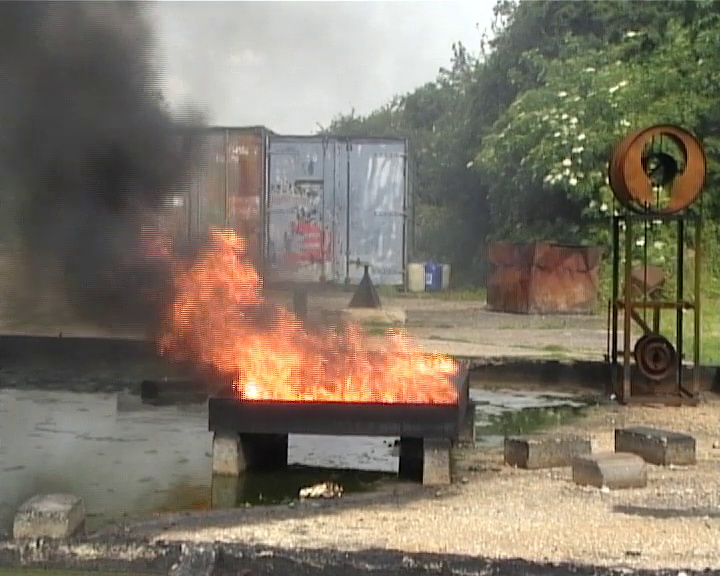fire: (171, 228, 456, 400)
